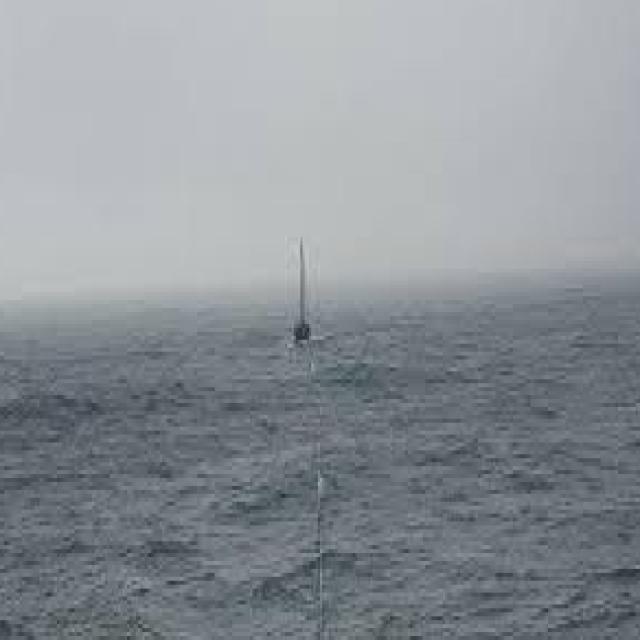sailboat: (284, 228, 312, 362)
